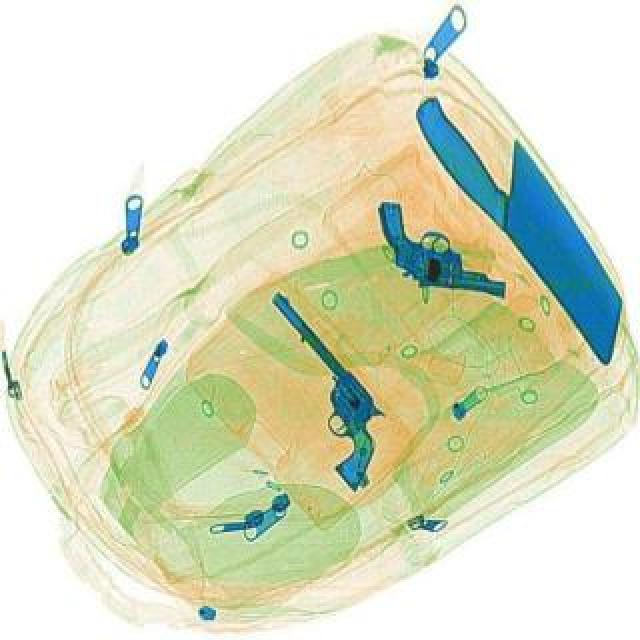gun: (216, 290, 416, 490), (368, 200, 516, 292)
knife: (406, 82, 638, 350)
